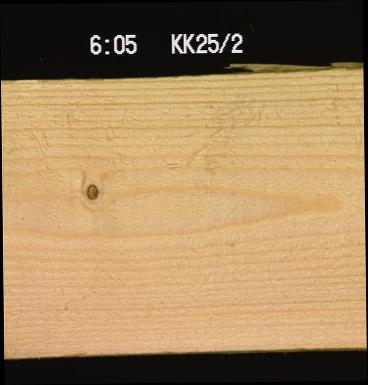dry_knot: (83, 181, 99, 200)
